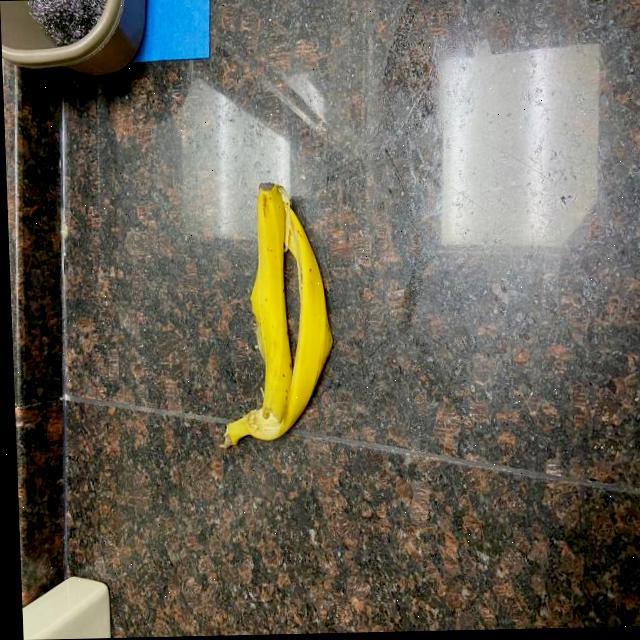banana: (215, 171, 343, 459)
